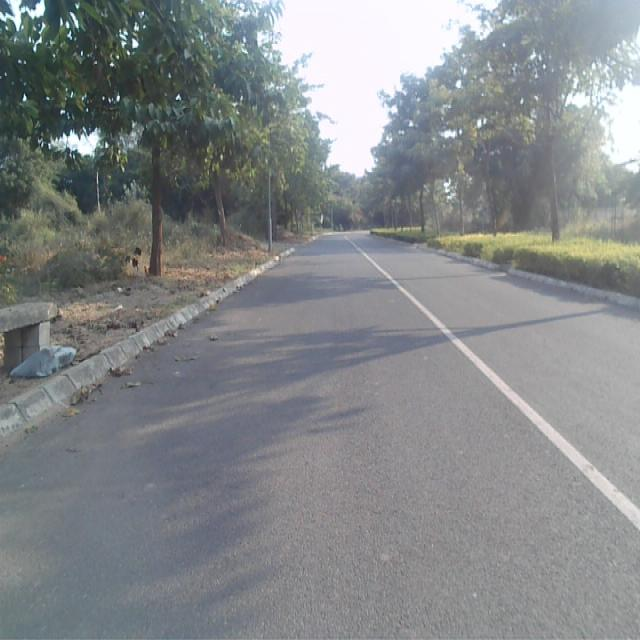lane: (0, 240, 640, 640)
